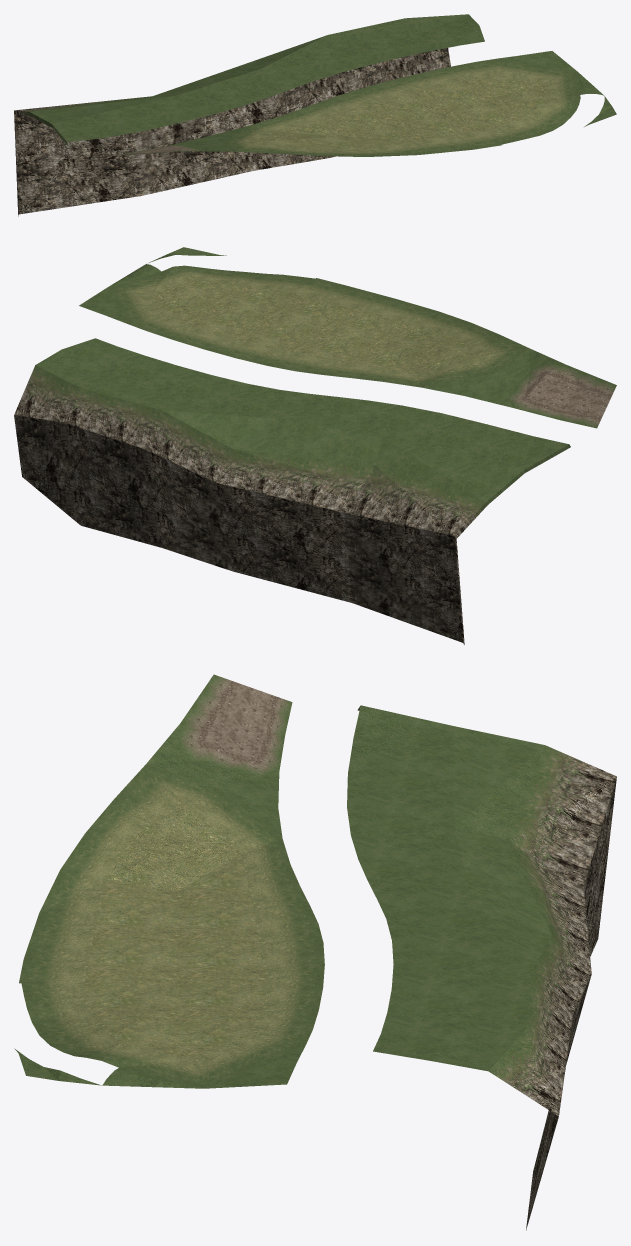
The model's file is ce_groundpalo06.obj.
3 views of the same model, one above another, from view 1: azimuth 30°, elevation 25°; view 2: azimuth 150°, elevation 25°; view 3: azimuth 270°, elevation 25° (orthographic). The views are drawn at different scales.
Visible parts, largest first — view 1: CE_groundPALO06; view 2: CE_groundPALO06; view 3: CE_groundPALO06.
Boxes of the visible parts, x1,y1,x2,y2 form: CE_groundPALO06: (14, 14, 616, 216); CE_groundPALO06: (14, 247, 616, 644); CE_groundPALO06: (14, 674, 616, 1230).
Size of the model in its own units: 258 by 81.4 by 176.
7 materials, 7 textured.
